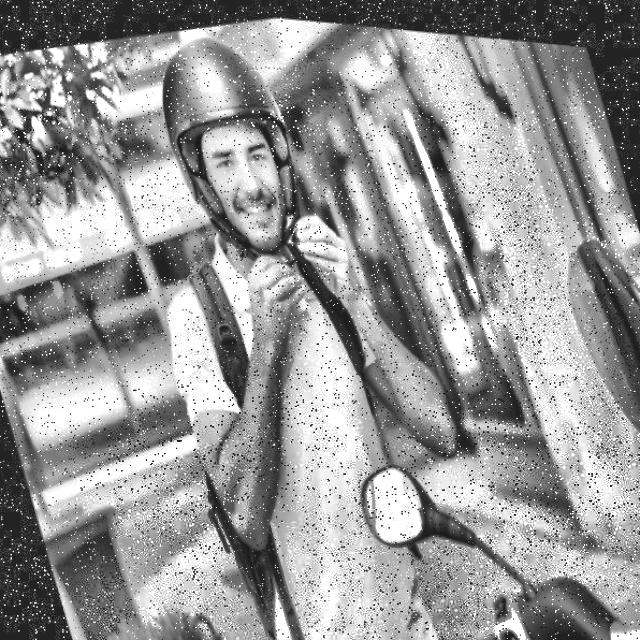Helmet: (133, 8, 330, 293)
